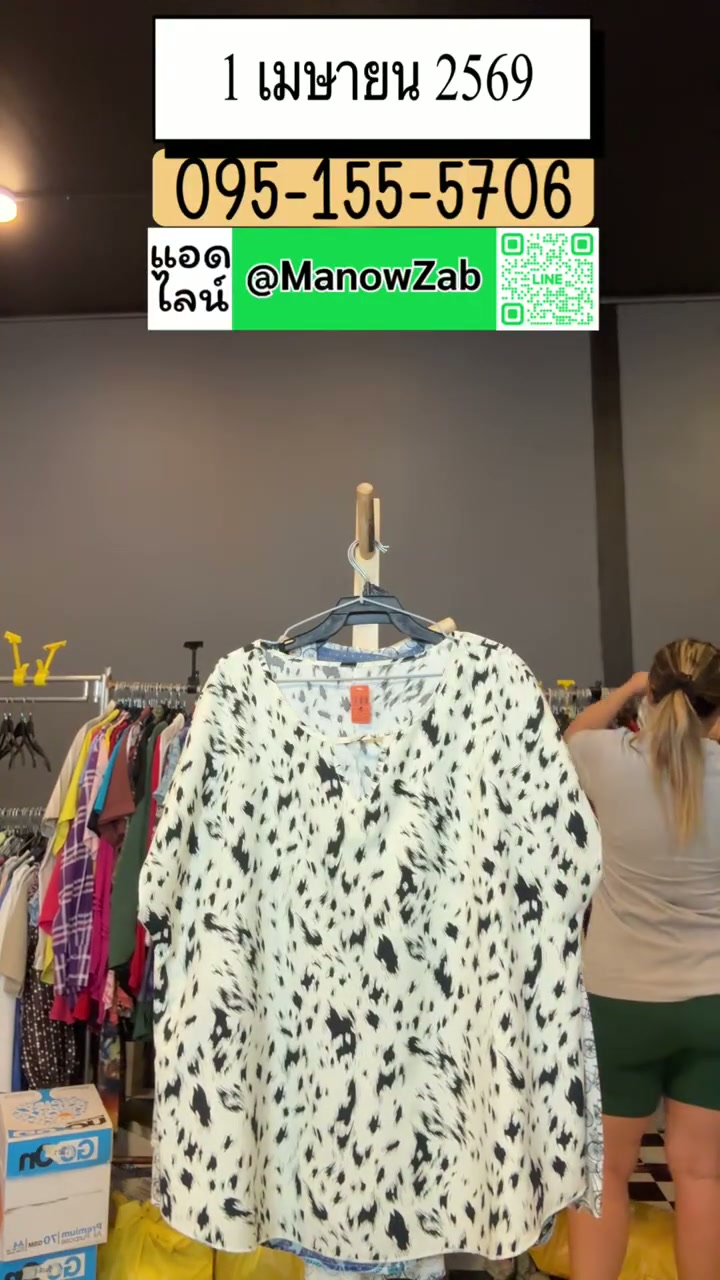display_shirt: (138, 618, 601, 1279)
